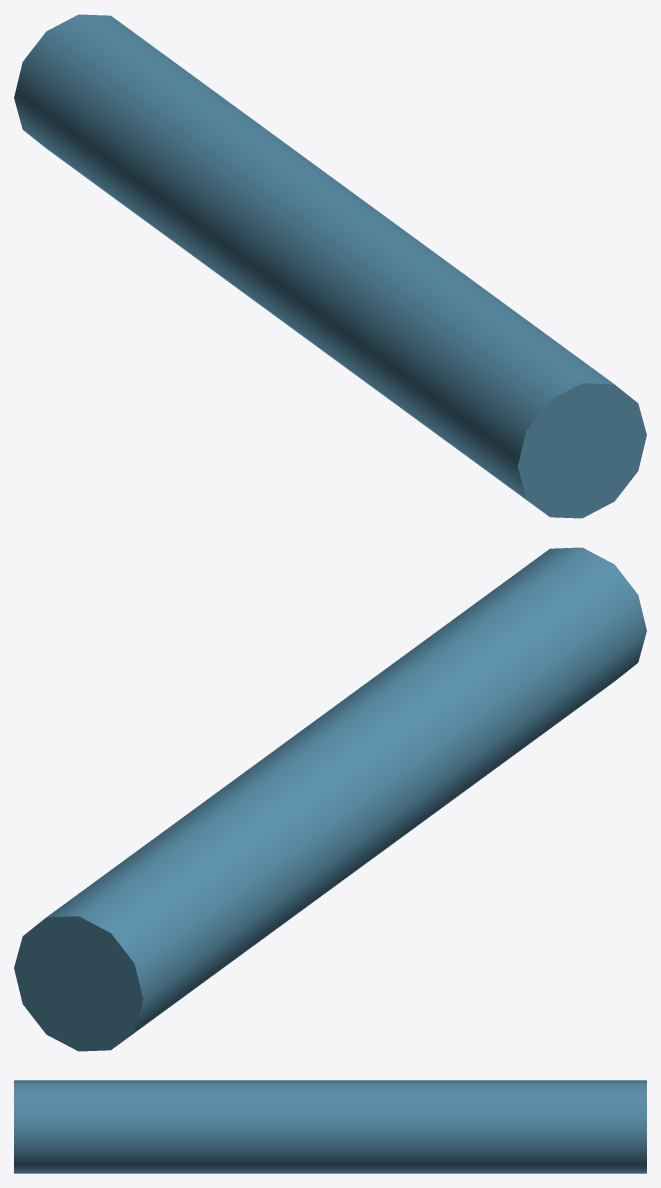
Rendered from GJ_Decor_Pile_04.fbx.
3 renders of one model, top to bottom at view 1: azimuth 30°, elevation 25°; view 2: azimuth 150°, elevation 25°; view 3: azimuth 270°, elevation 25°, orthographic. The views are drawn at different scales.
Parts seen in each view (by area): view 1: GJ_Decor_Pile_04; view 2: GJ_Decor_Pile_04; view 3: GJ_Decor_Pile_04.
Part boxes in pixels (x1,y1,x2,y2): GJ_Decor_Pile_04: [14, 14, 646, 518]; GJ_Decor_Pile_04: [14, 547, 646, 1051]; GJ_Decor_Pile_04: [14, 1080, 646, 1173].
Bounding box in the file's own units: 4.15 × 4.15 × 27.98.
